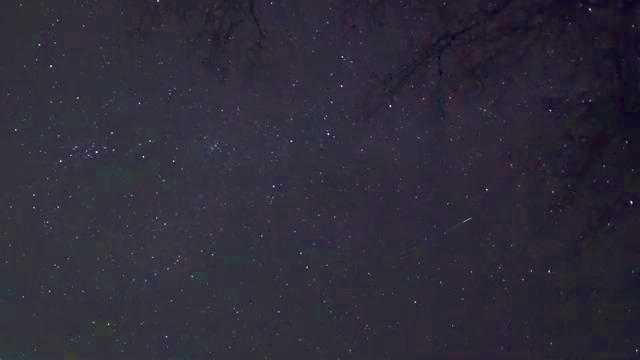meteorite: (436, 214, 489, 231)
